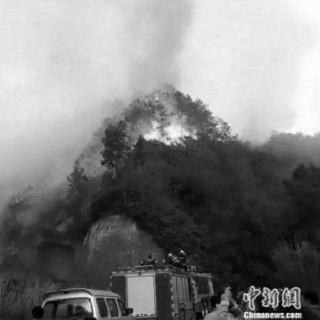Fire: (119, 103, 202, 153)
